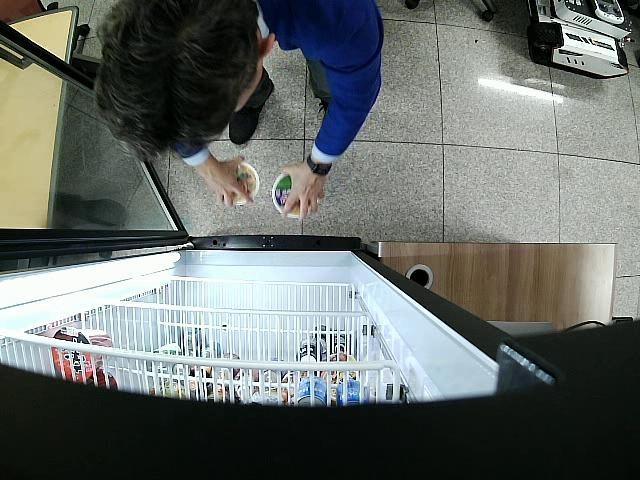09_yukGaeJang: (272, 172, 300, 218), (232, 162, 260, 205)
